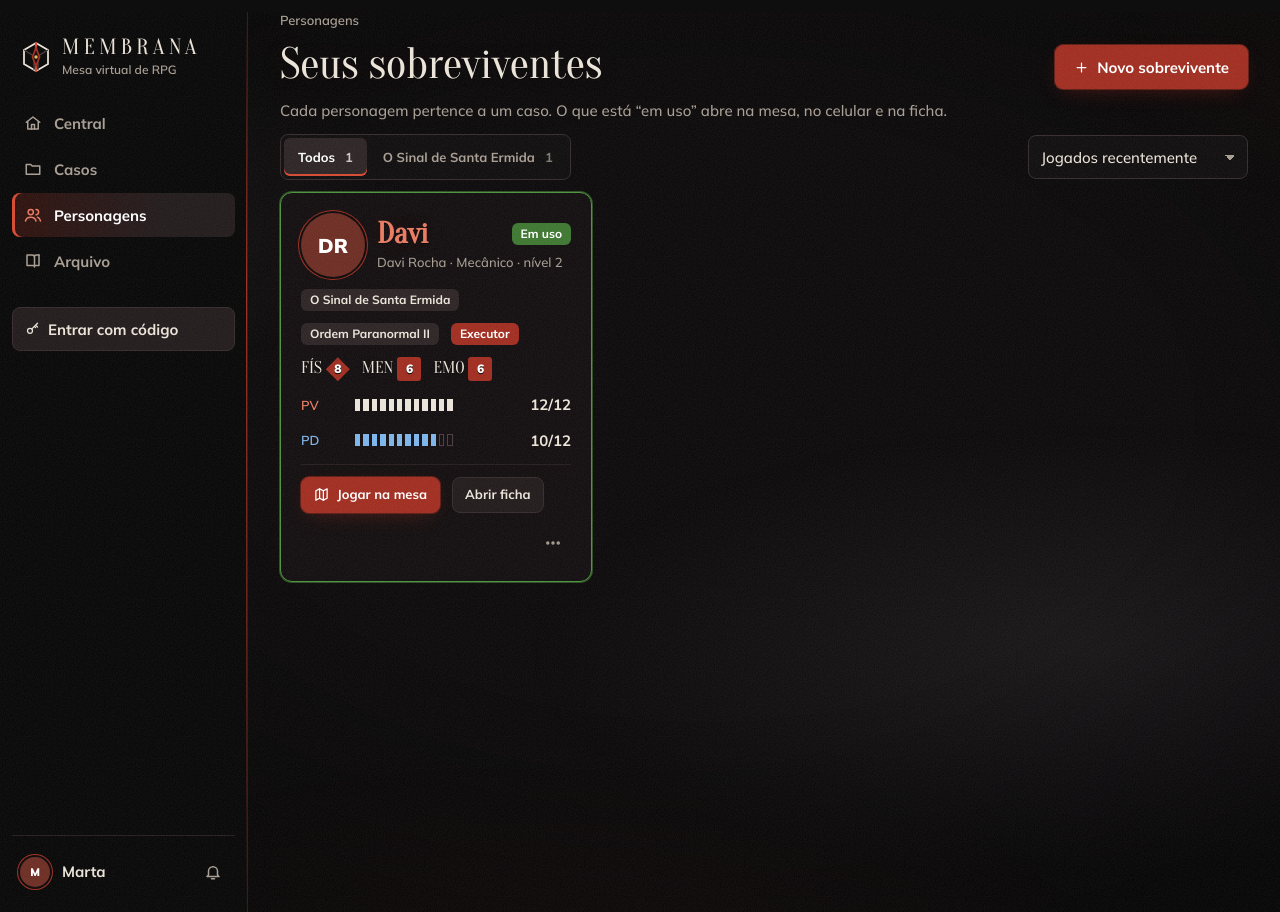
it: Personagens › o menu abre e fecha pelo teclado
Check: the element "Davi" is shown, box left=280, top=192, right=592, bottom=582
Click the button named "Mais ações para Davi".
click(553, 543)  # box left=535, top=525, right=571, bottom=561
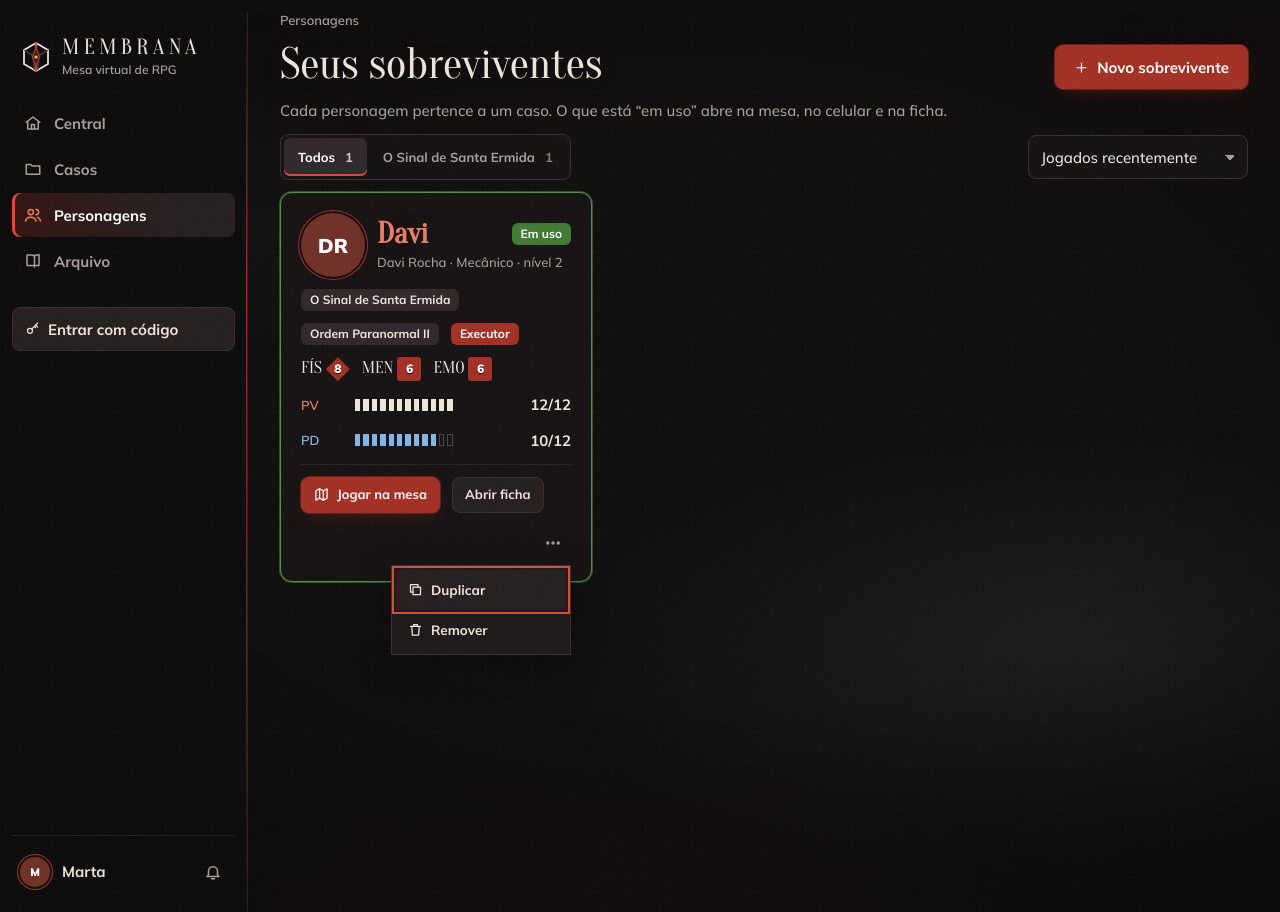
Press ArrowDown in the menu item "Duplicar", box left=396, top=570, right=566, bottom=610
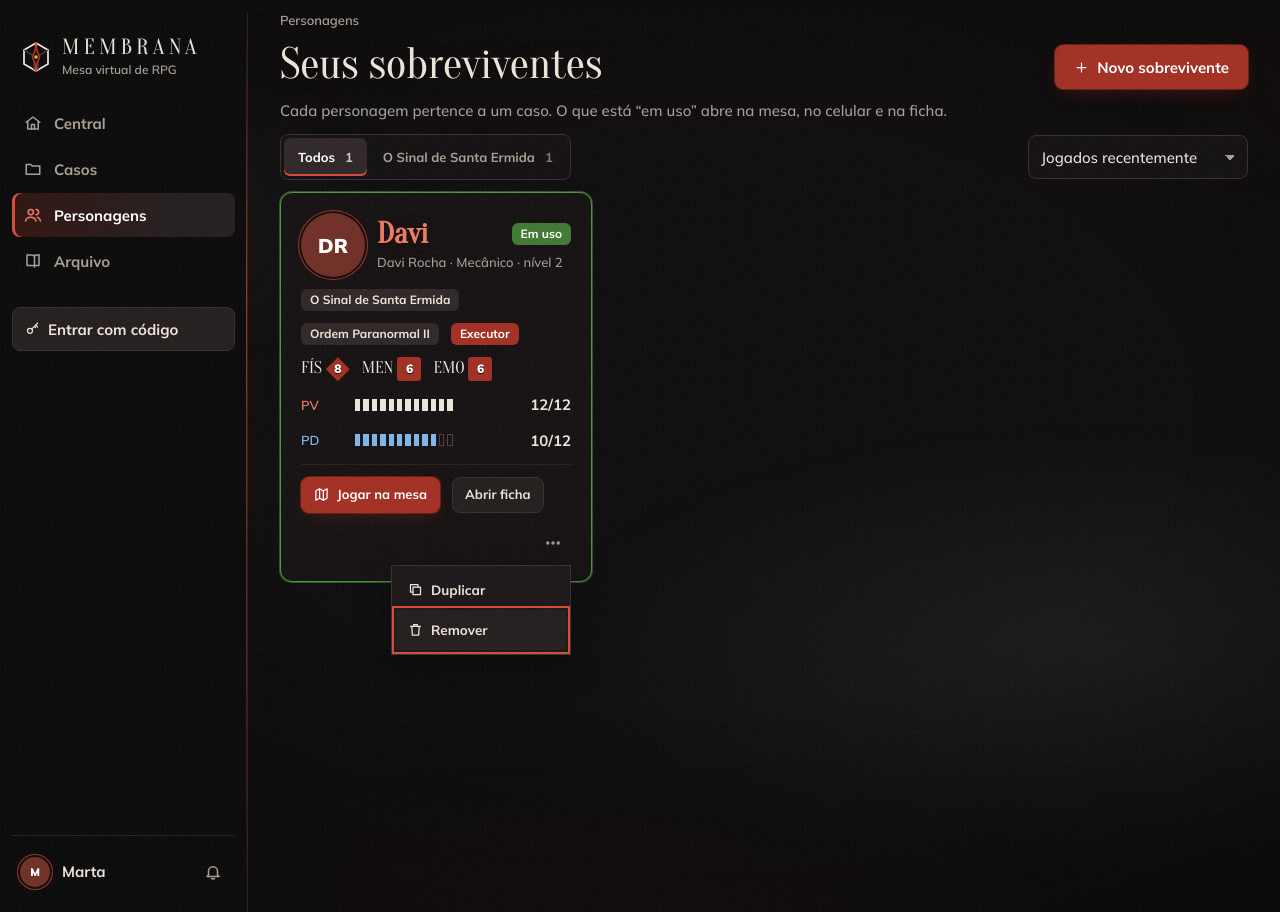
Press Escape in the menu item "Remover", box left=396, top=610, right=566, bottom=650
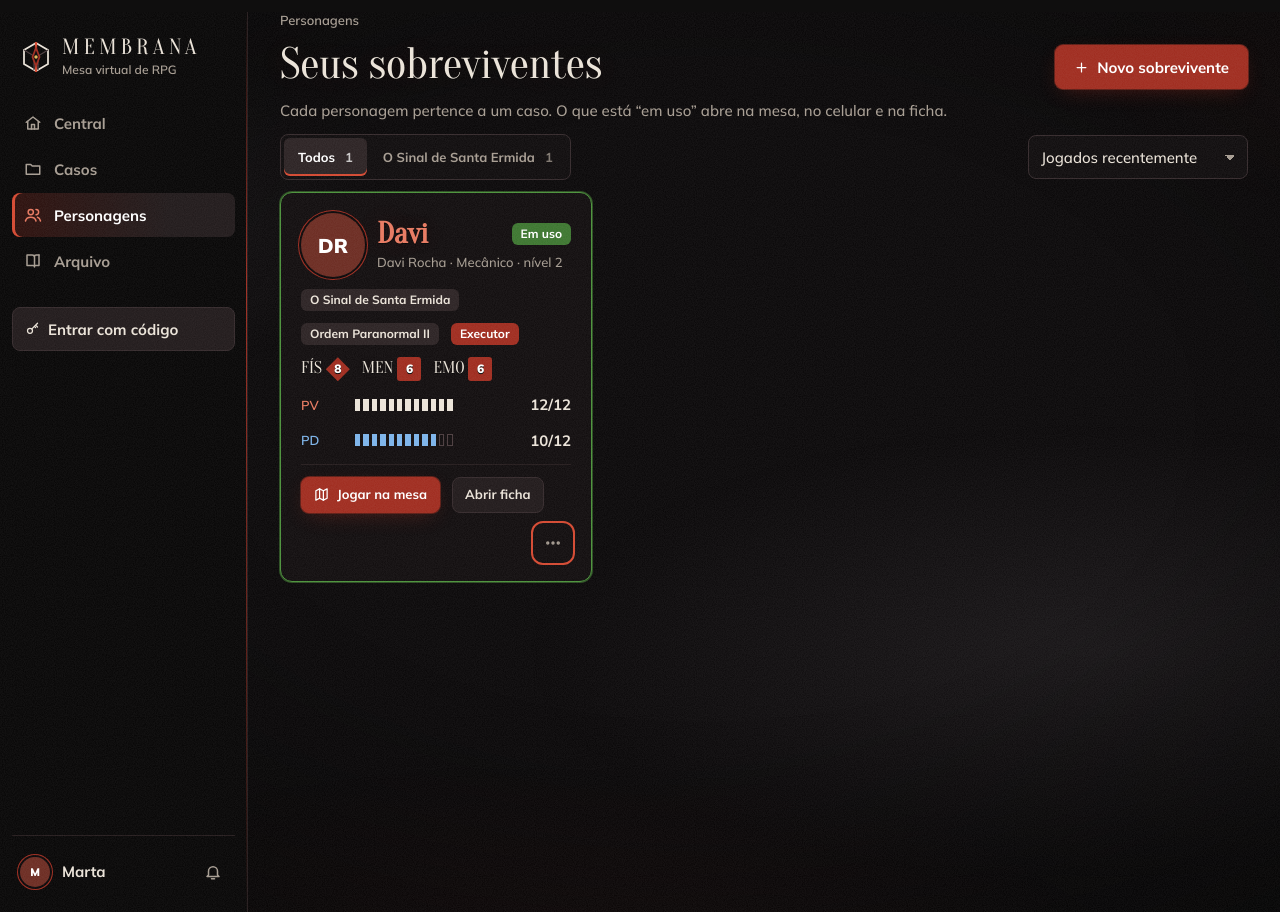
Check: the menu is gone
